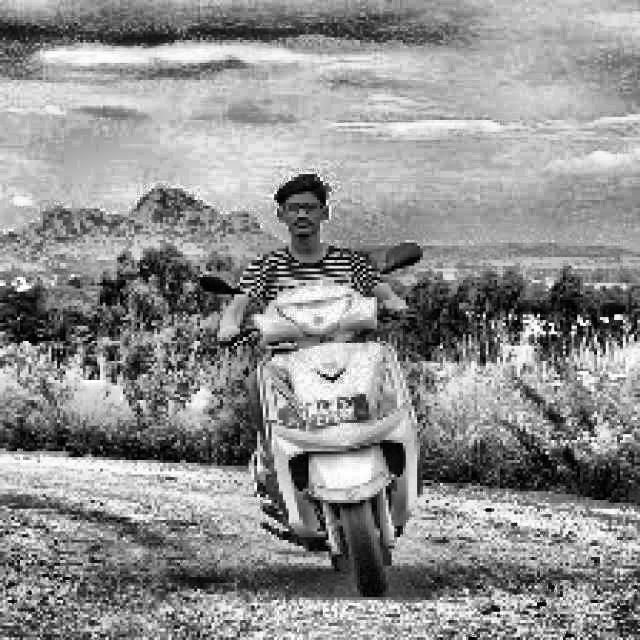motorcycle: (188, 240, 472, 598)
